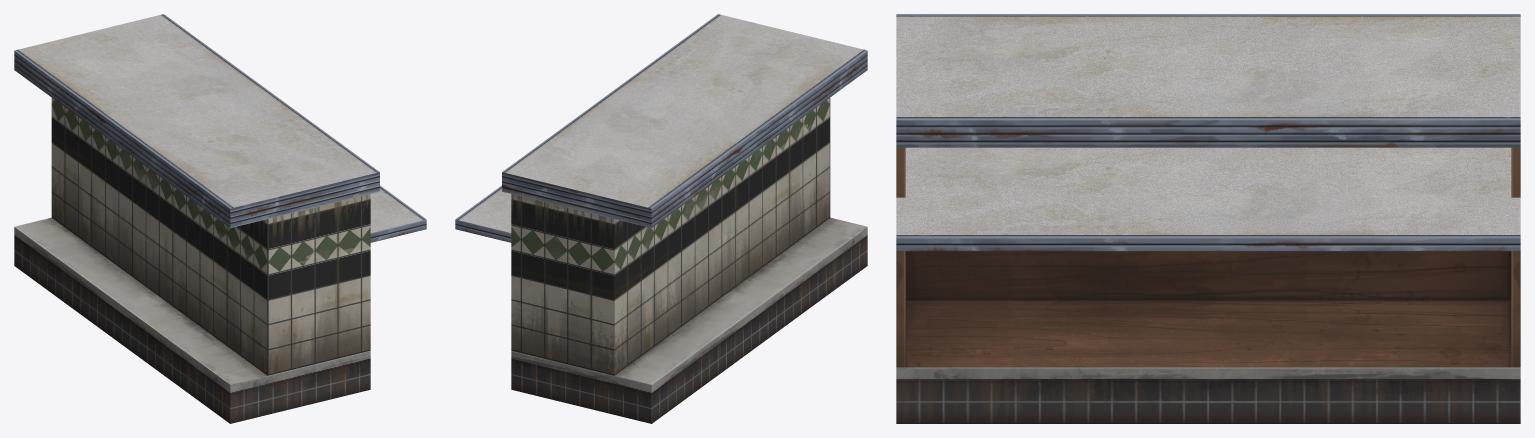
The model's file is diner_counter2m.fbx.
3 renders of one model, left to right at view 1: azimuth 30°, elevation 25°; view 2: azimuth 150°, elevation 25°; view 3: azimuth 270°, elevation 25°, orthographic. The views are drawn at different scales.
Visible parts, largest first — view 1: diner_counter2m; view 2: diner_counter2m; view 3: diner_counter2m.
Boxes of the visible parts, box(x1,y1,x2,y2) form: diner_counter2m: box(14, 14, 426, 423); diner_counter2m: box(455, 14, 867, 423); diner_counter2m: box(896, 14, 1520, 423).
Bounding box in the file's own units: 105 × 110 × 200.
